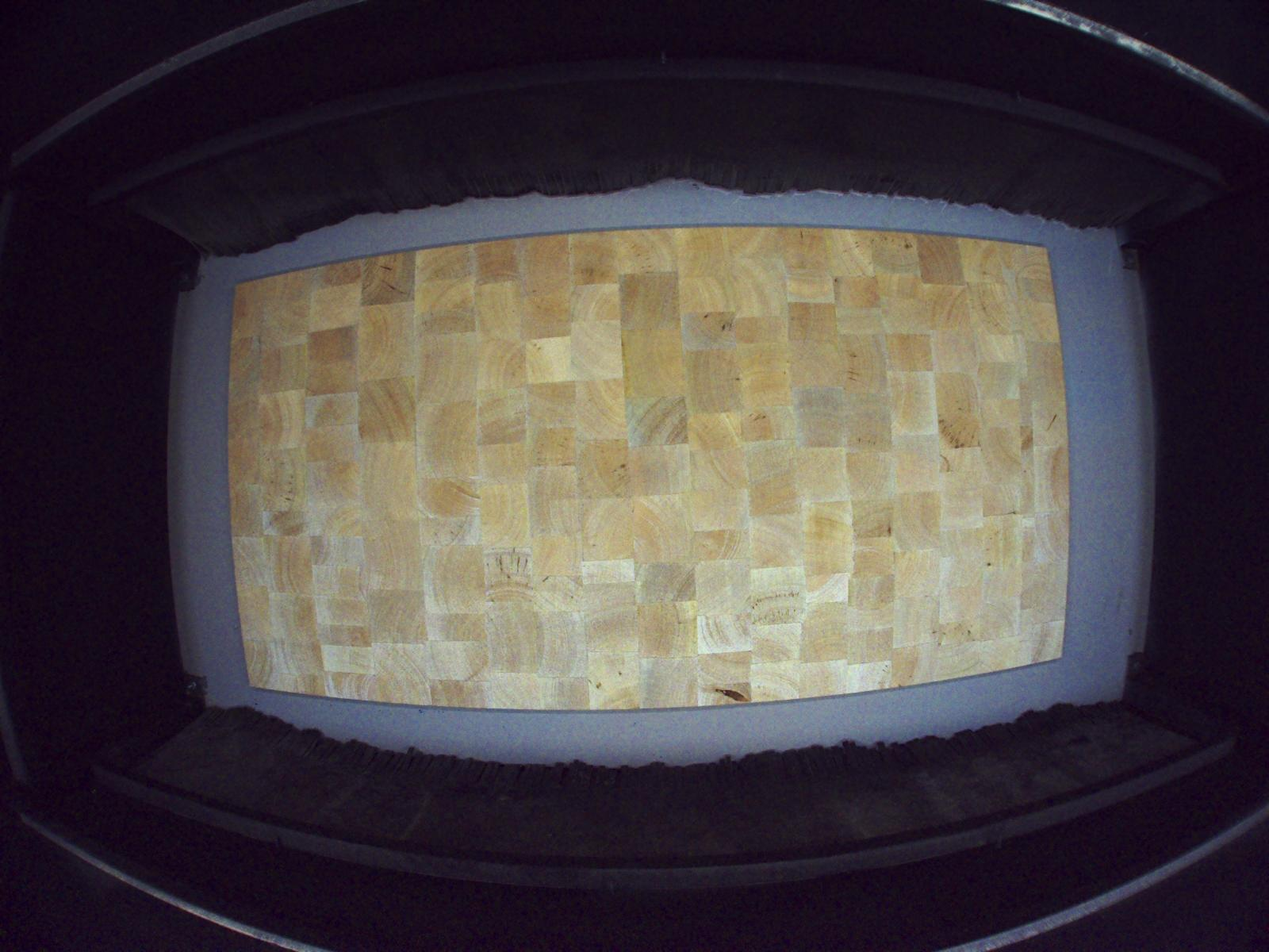nudillo: (713, 686, 751, 704)
